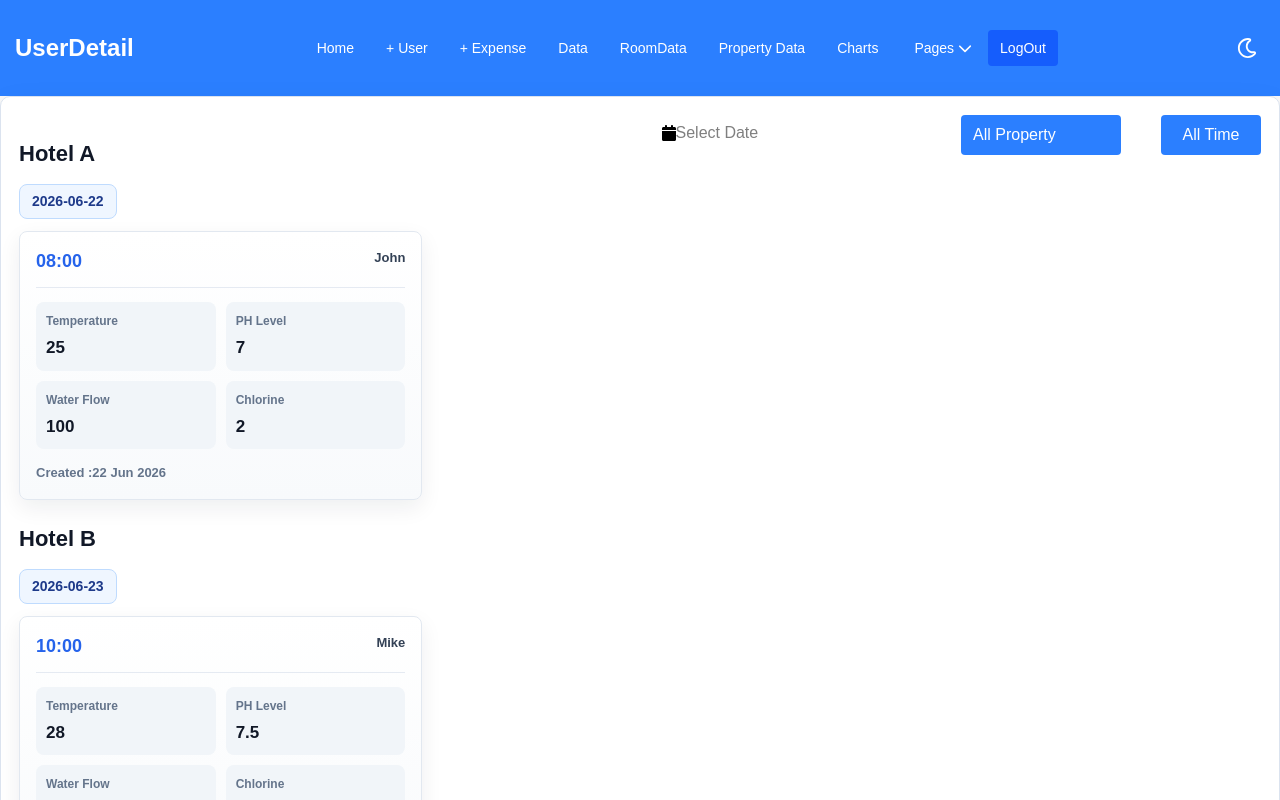
Test: Property Wise Card Testing › filters cards by selectde property
This screenshot has width=1280, height=800.
Expected: the heading "Hotel A" is shown, x1=19 y1=141 x2=95 y2=166
Expected: the heading "Hotel B" is shown, x1=19 y1=526 x2=96 y2=550
Click the button "All Property" at (1041, 135), box x1=961 y1=115 x2=1121 y2=155
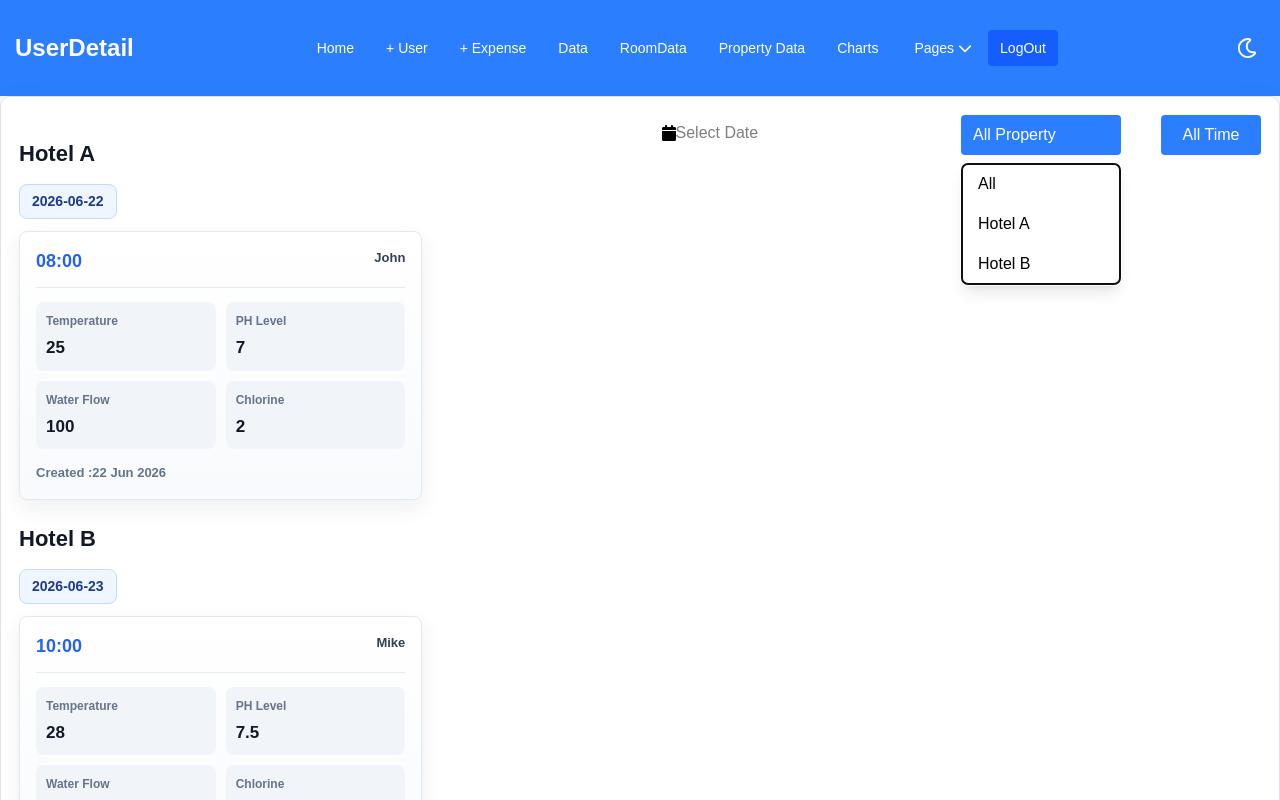
Click the menu item "Hotel A" at (1041, 224), box x1=962 y1=204 x2=1120 y2=244
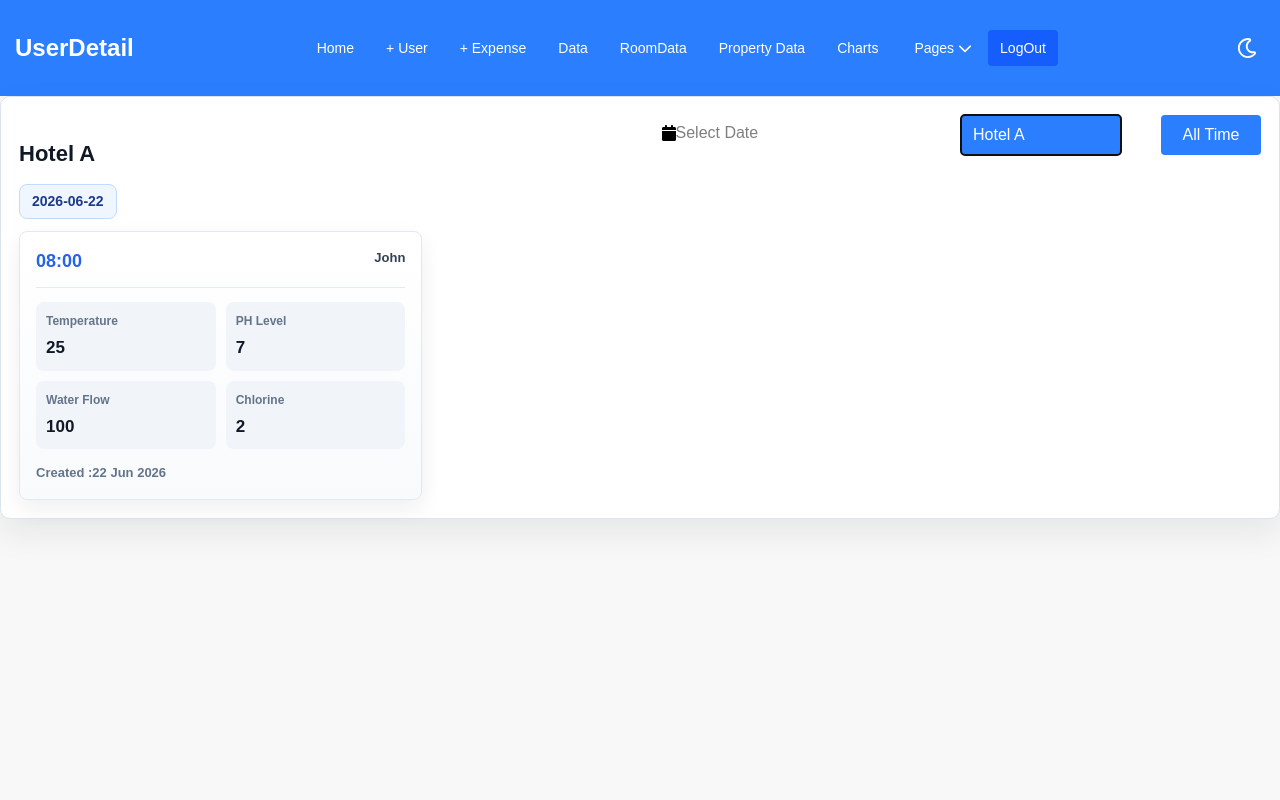
Expected: the text "John" is shown, x1=374 y1=248 x2=405 y2=268
Result: the menu item "Hotel B" is gone
